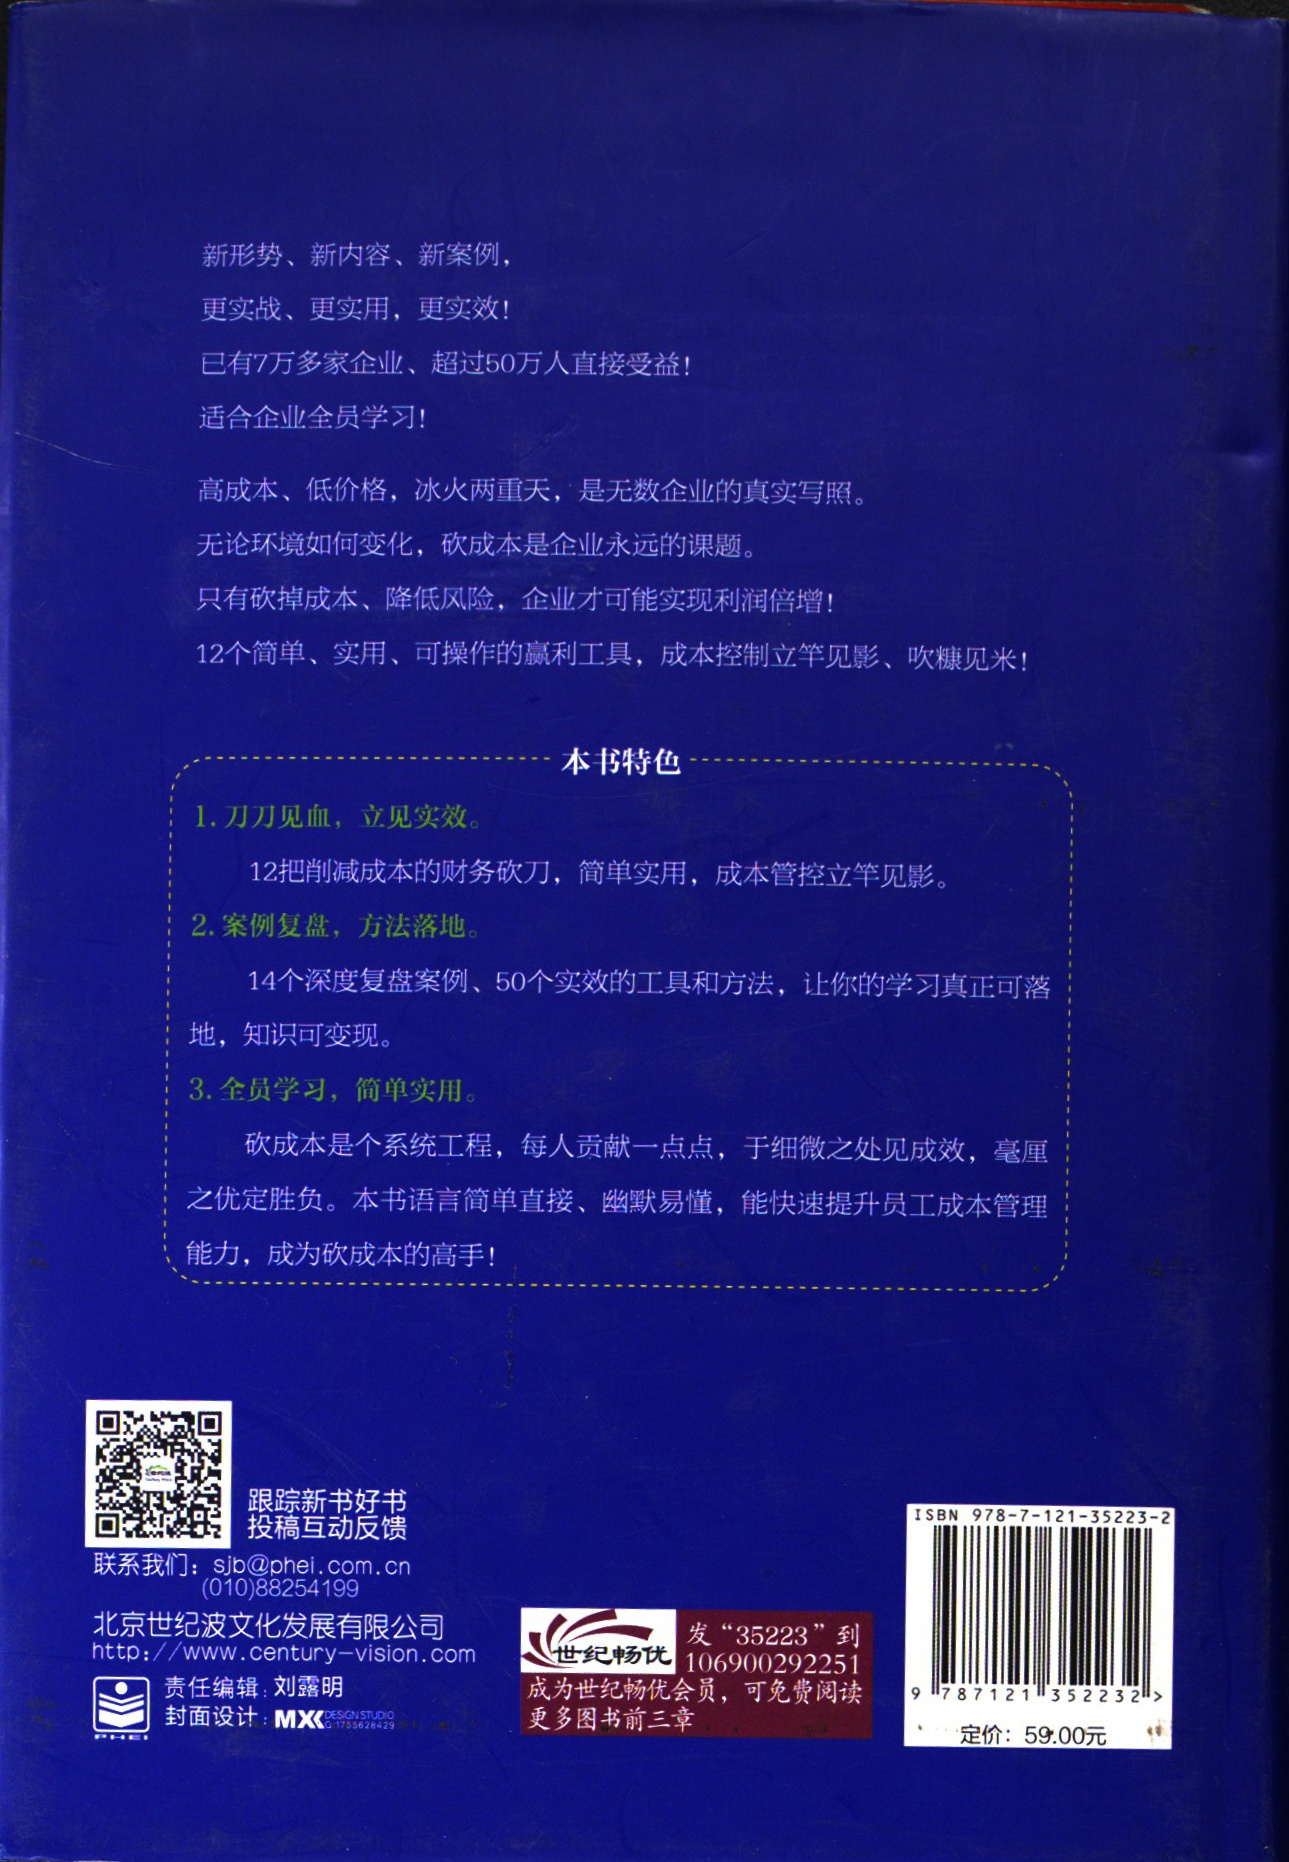barcode: (906, 1496, 1177, 1732)
